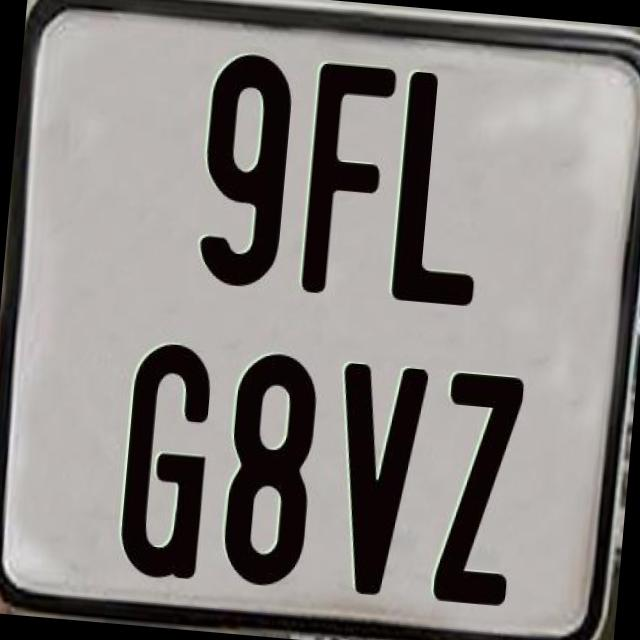8: (216, 350, 320, 588)
9: (190, 50, 296, 295)
F: (298, 56, 404, 298)
G: (116, 339, 214, 586)
L: (386, 70, 495, 306)
V: (320, 362, 424, 606)
Z: (431, 370, 529, 606)
